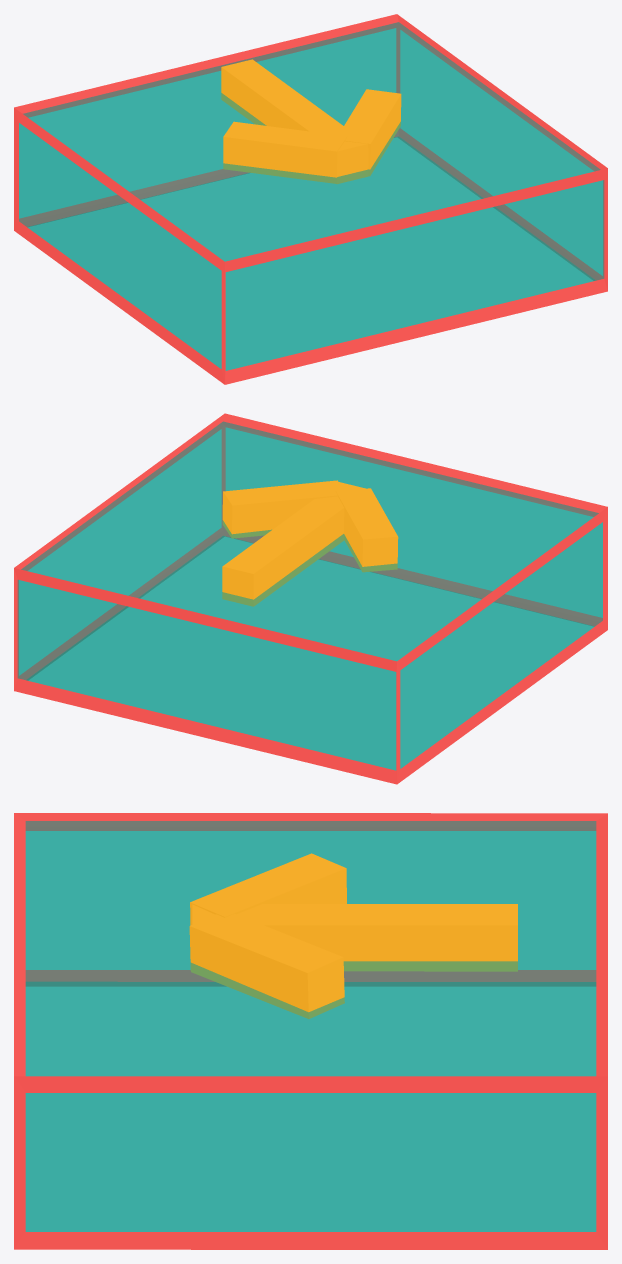
File: lift_button_button_green.glb
3 views of the same model, one above another, from view 1: azimuth 30°, elevation 25°; view 2: azimuth 150°, elevation 25°; view 3: azimuth 270°, elevation 25° (orthographic). The views are drawn at different scales.
Visible parts, largest first — view 1: Cube.243, Cube.241, Cube.248; view 2: Cube.243, Cube.241, Cube.248; view 3: Cube.243, Cube.241, Cube.248.
Boxes of the visible parts, box(x1,y1,x2,y2) form: Cube.243: box(19, 22, 604, 370); Cube.241: box(14, 14, 607, 384); Cube.248: box(221, 59, 401, 183); Cube.243: box(17, 421, 602, 770); Cube.241: box(14, 413, 607, 784); Cube.248: box(222, 480, 398, 606); Cube.243: box(25, 821, 596, 1231); Cube.241: box(14, 813, 607, 1249); Cube.248: box(189, 853, 517, 1018).
Bounding box in the file's own units: 0.0764 × 0.0281 × 0.0729.
